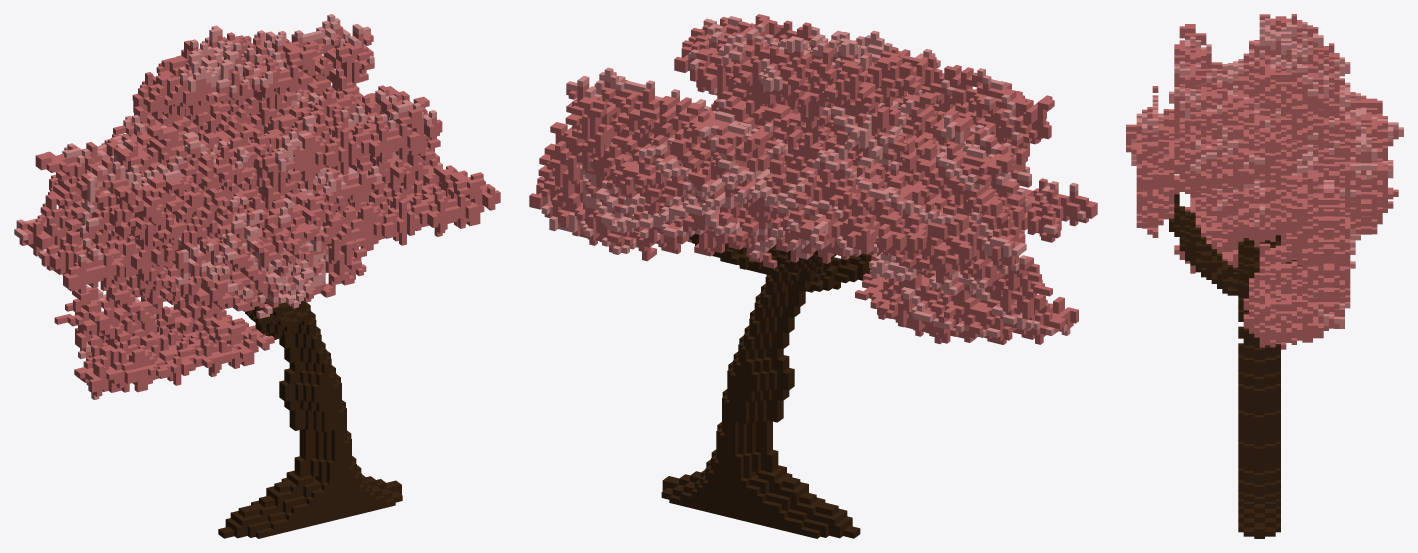
Rendered from Korean_tree_05.FBX.
3 renders of one model, left to right at view 1: azimuth 30°, elevation 25°; view 2: azimuth 150°, elevation 25°; view 3: azimuth 270°, elevation 25°, orthographic. The views are drawn at different scales.
Parts seen in each view (by area): view 1: Voxel_Korean_traditional village-16; view 2: Voxel_Korean_traditional village-16; view 3: Voxel_Korean_traditional village-16.
Boxes of the visible parts, left/top/right/bottom form: Voxel_Korean_traditional village-16: left=14, top=14, right=500, bottom=538; Voxel_Korean_traditional village-16: left=529, top=14, right=1097, bottom=538; Voxel_Korean_traditional village-16: left=1126, top=14, right=1403, bottom=538.
Size of the model in its own units: 91.98 by 89.98 by 51.99.
Materials: 1 (1 with a texture image).
